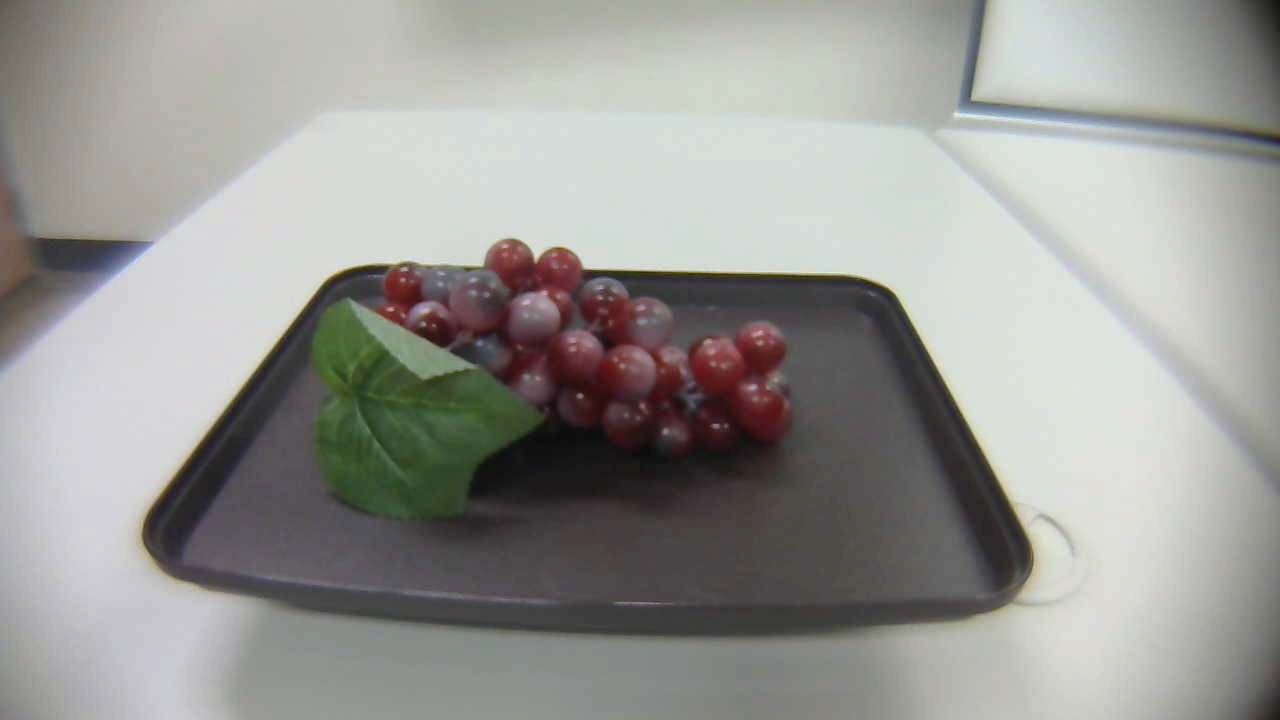grape: (305, 238, 797, 526)
